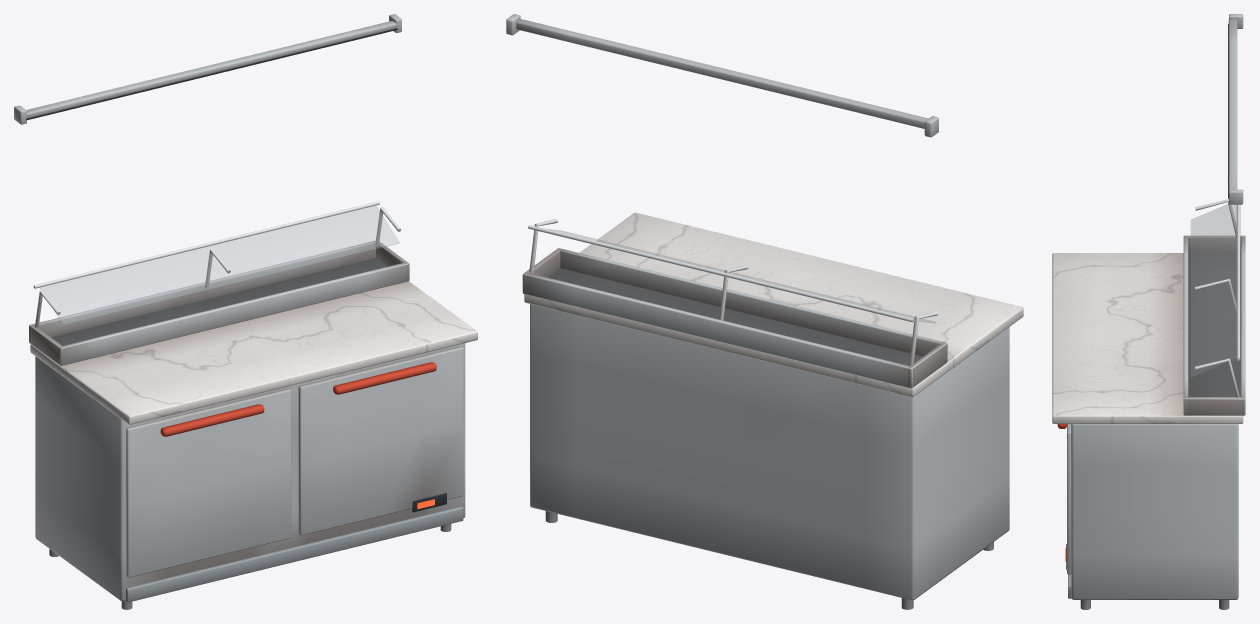
The model's file is fp-counter.gltf.
3 views of the same model, side by side, from view 1: azimuth 30°, elevation 25°; view 2: azimuth 150°, elevation 25°; view 3: azimuth 270°, elevation 25° (orthographic). The views are drawn at different scales.
Visible parts, largest first — view 1: model; view 2: model; view 3: model.
Boxes of the visible parts, left/top/right/bottom form: model: left=14, top=14, right=477, bottom=609; model: left=506, top=14, right=1023, bottom=609; model: left=1052, top=14, right=1245, bottom=609.
Size of the model in its own units: 1.77 by 1.99 by 0.81.
10 materials, 1 textured.
